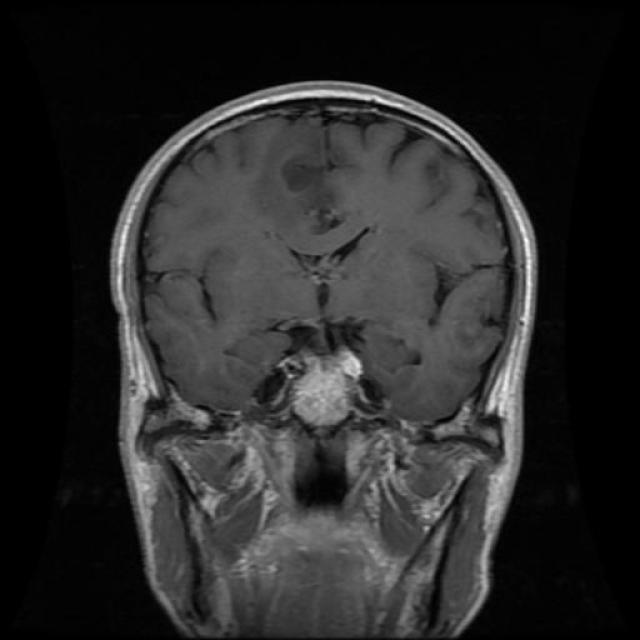glioma: (266, 319, 390, 429)
